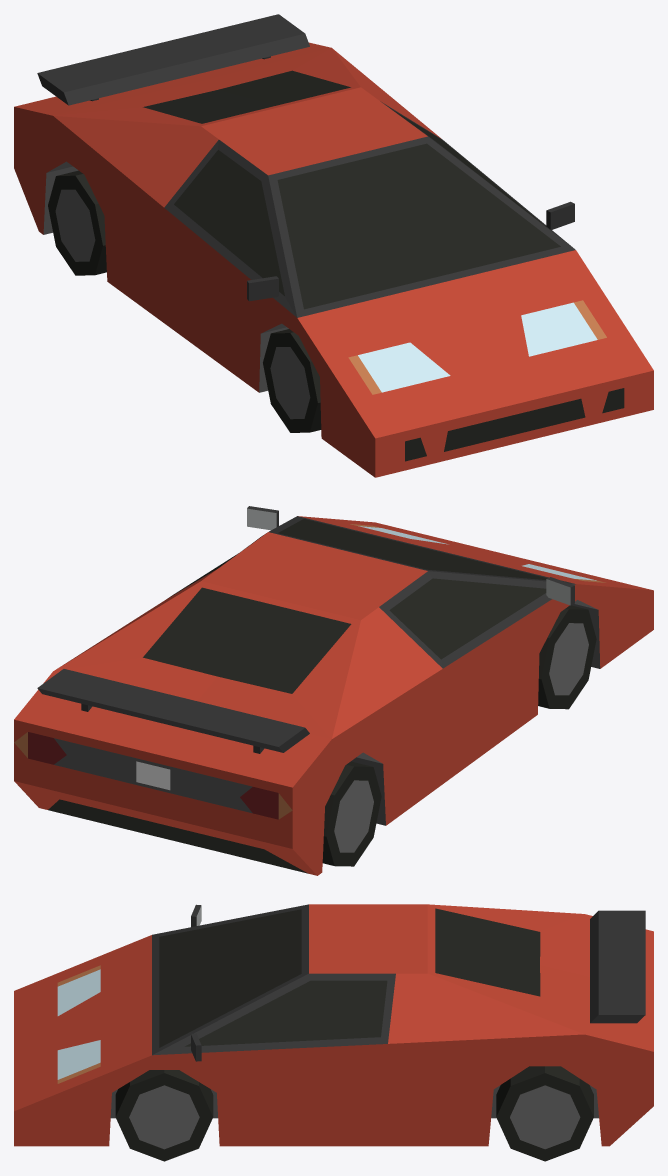
The model's file is Veh_Sports_Car_02_Red.obj.
The picture shows the model from 3 angles, top to bottom: view 1: azimuth 30°, elevation 25°; view 2: azimuth 150°, elevation 25°; view 3: azimuth 270°, elevation 25°; orthographic projection. The views are drawn at different scales.
Size of the model in its own units: 1.28 by 0.6906 by 2.47.
